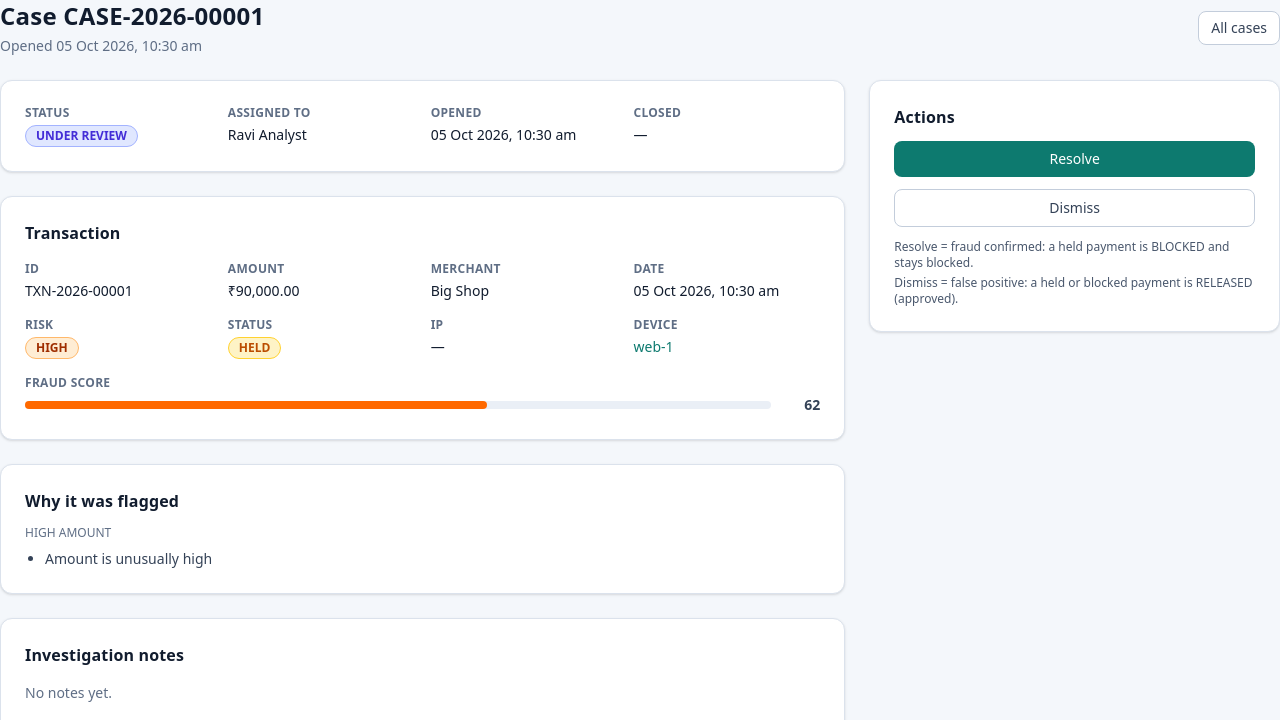
CaseDetail close dialog (N-06) › Dismiss explains that it releases the transaction
This screenshot has width=1280, height=720.
Click the button "Dismiss" at (1075, 208), box [894,189,1255,227]
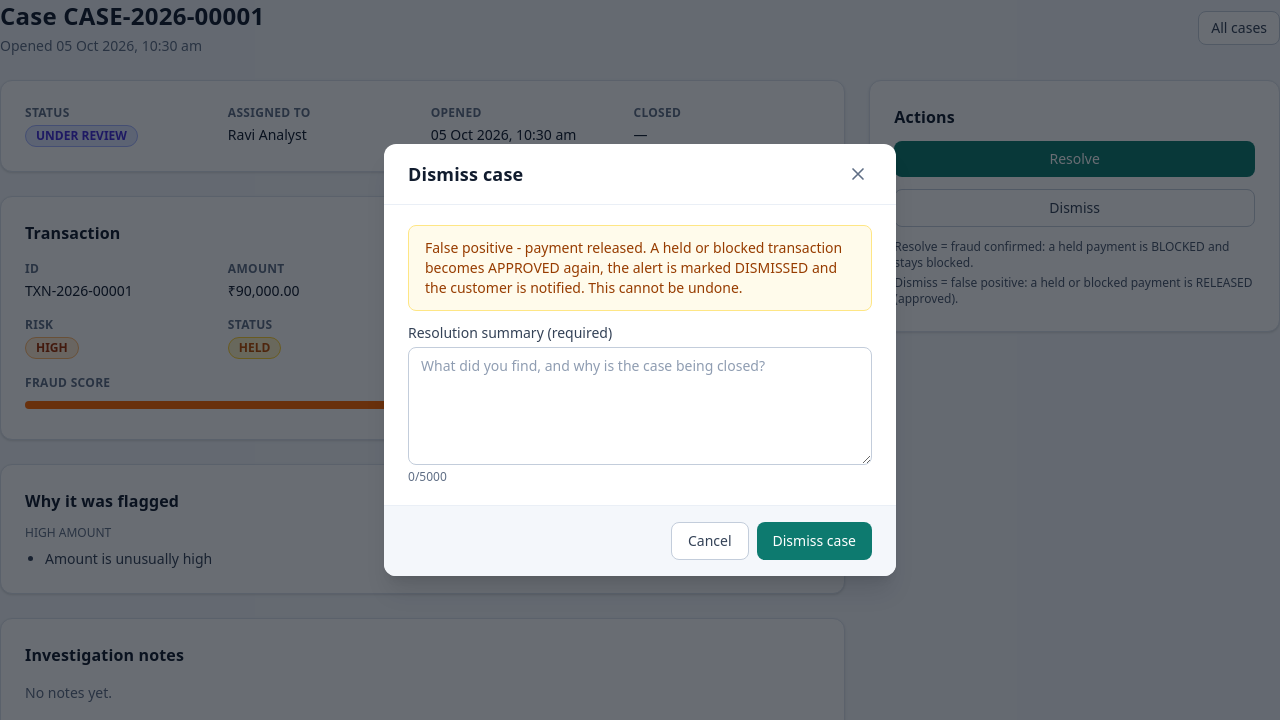
Expected: the text "False positive" is shown, [425,238,842,297]
